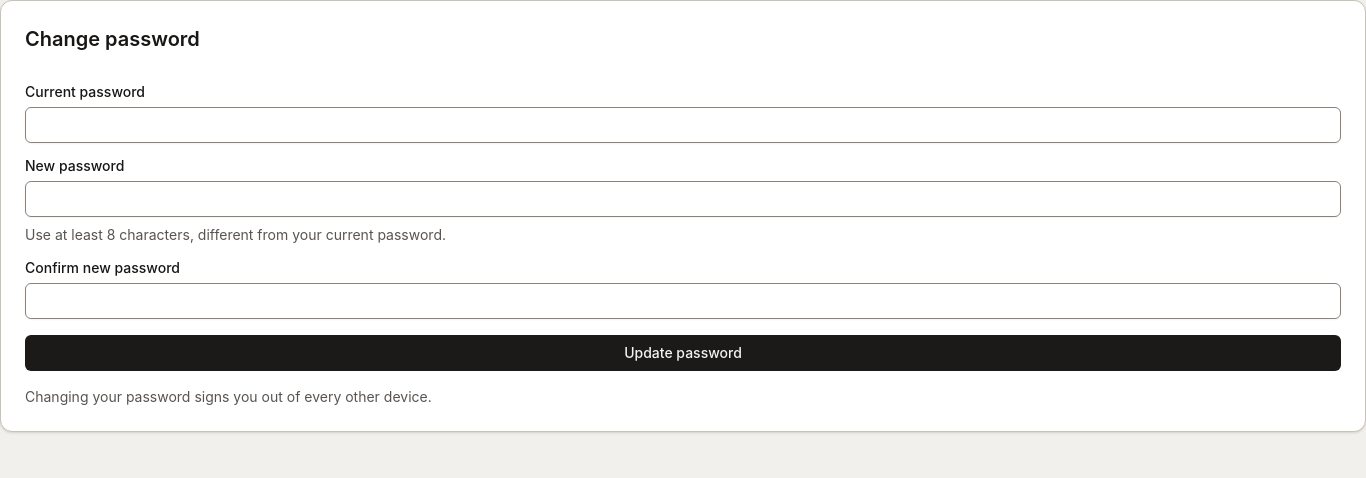
Scenario: ChangePassword › rejects a too-short new password inline
In the password field labelled "Current password": coordinates (683, 125) [25, 107, 1341, 143], type "oldpassword-1"
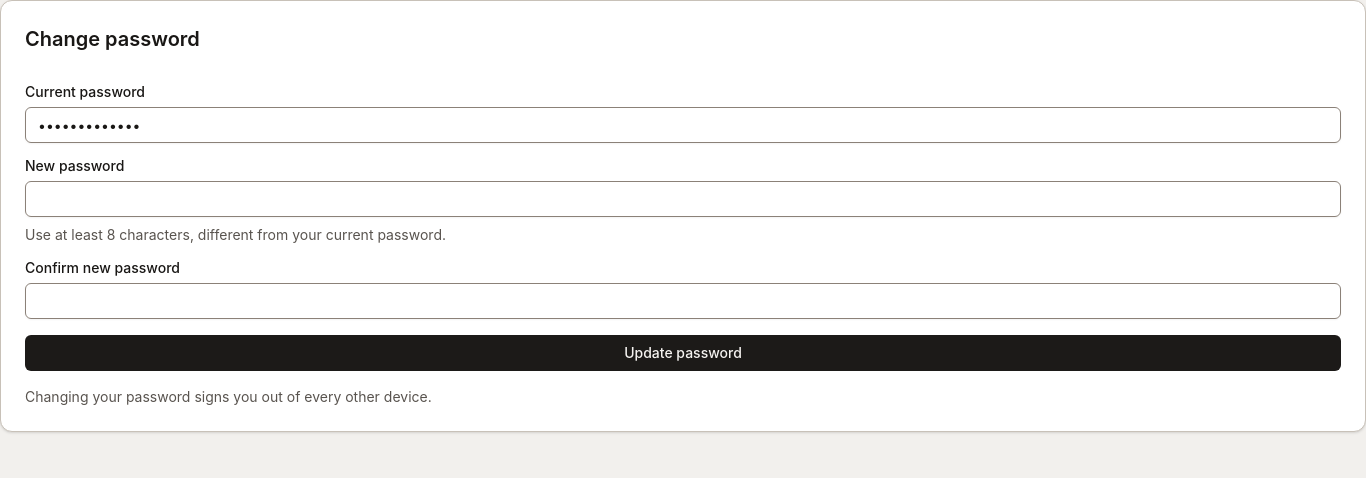
In the password field labelled "New password": coordinates (683, 199) [25, 181, 1341, 217], type "short"
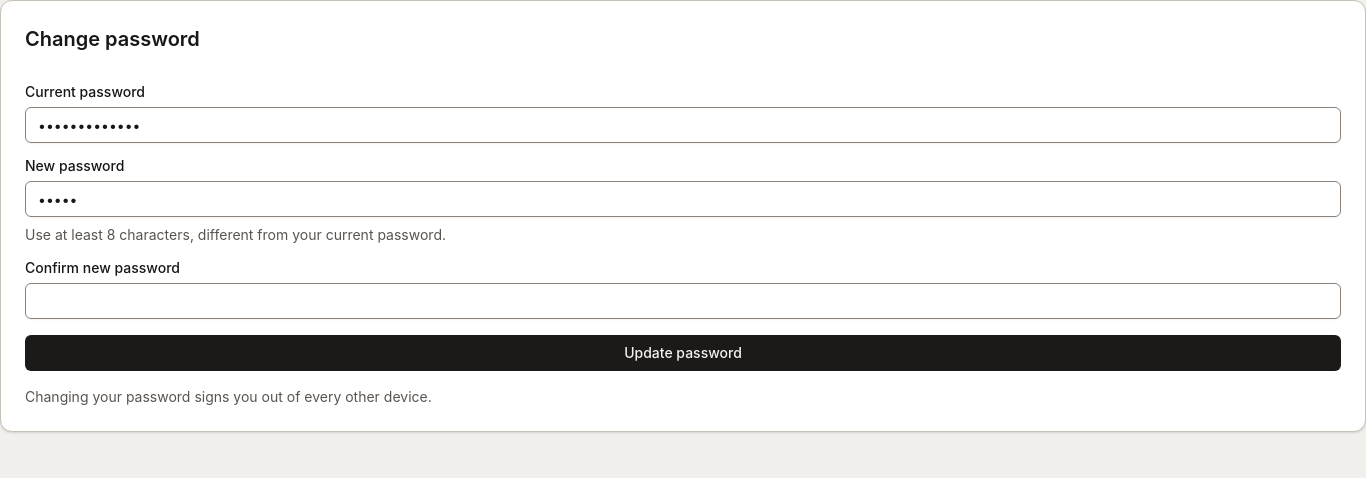
In the password field labelled "Confirm new password": coordinates (683, 301) [25, 283, 1341, 319], type "short"
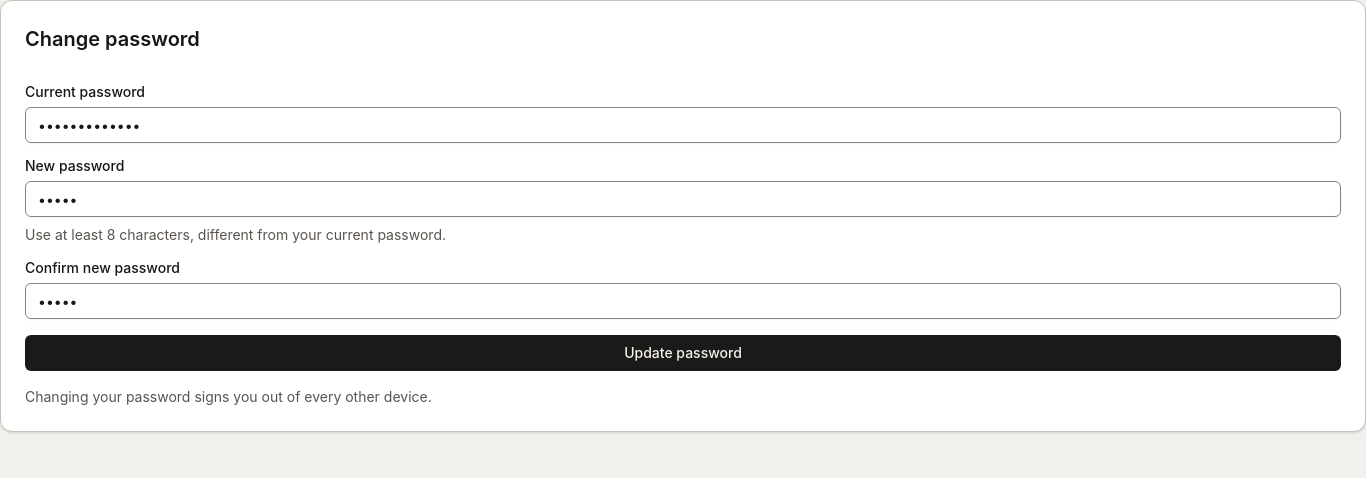
Click the button "Update password": coordinates (683, 353) [25, 335, 1341, 371]
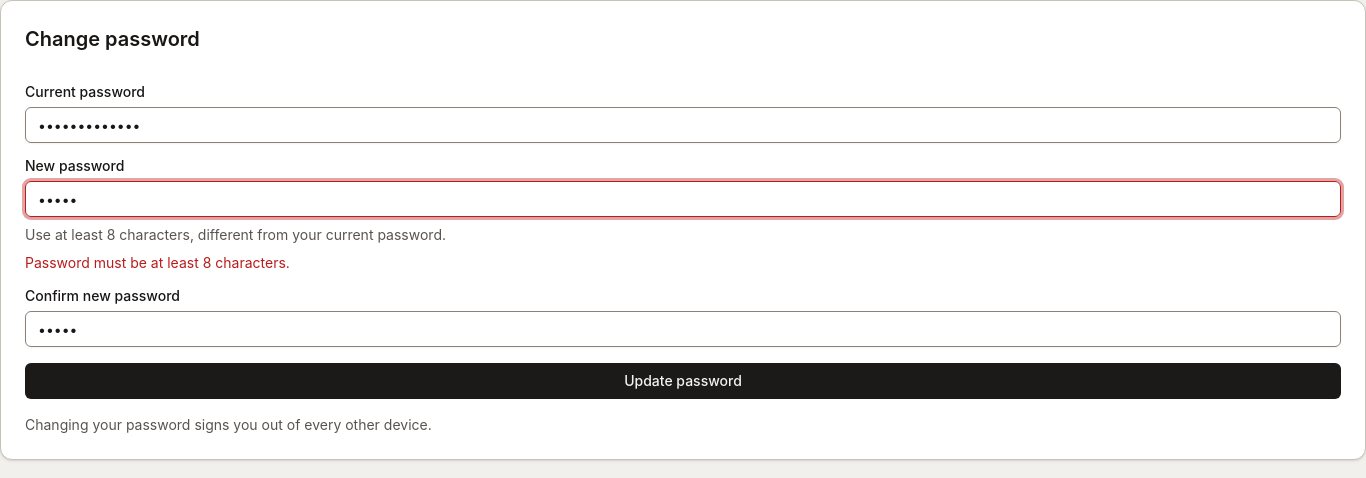
Now the text "Password must be at least 8 characters." is shown, box [25, 254, 290, 271]
